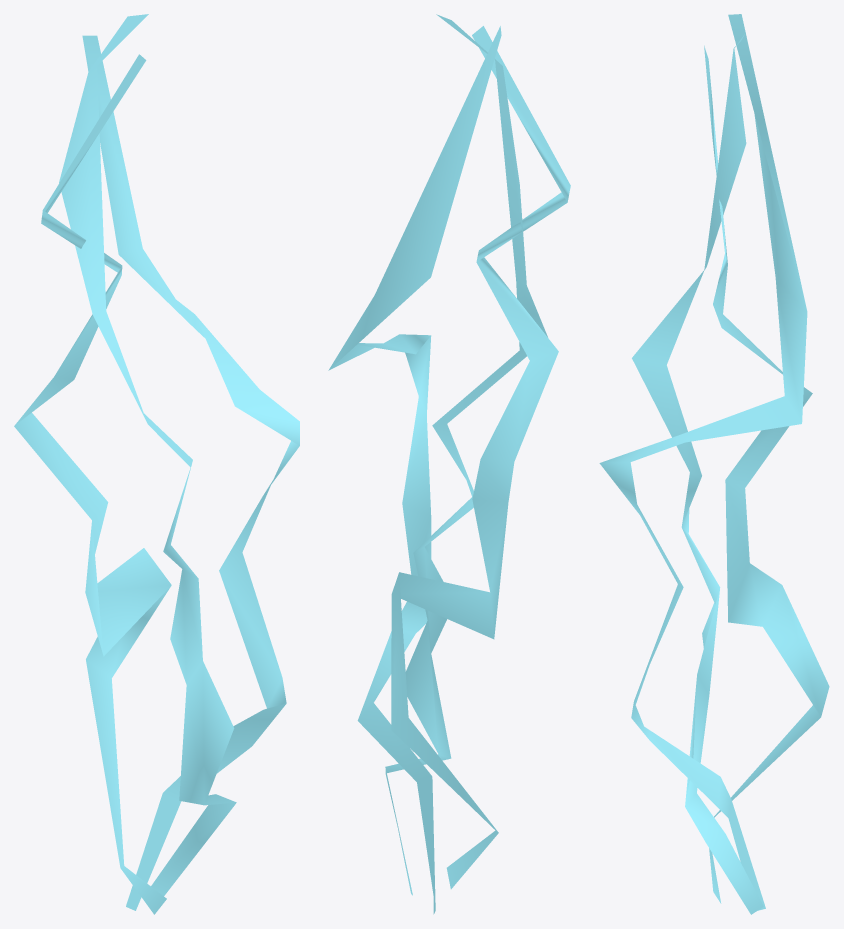
The model's file is electricidad_pasillo-006.gltf.
3 views of the same model, side by side, from view 1: azimuth 30°, elevation 25°; view 2: azimuth 150°, elevation 25°; view 3: azimuth 270°, elevation 25° (orthographic). The views are drawn at different scales.
Visible parts, largest first — view 1: Electr-Pasillo-f.006; view 2: Electr-Pasillo-f.006; view 3: Electr-Pasillo-f.006.
Boxes of the visible parts, bbox=[...] form: Electr-Pasillo-f.006: bbox=[14, 14, 299, 914]; Electr-Pasillo-f.006: bbox=[328, 14, 570, 914]; Electr-Pasillo-f.006: bbox=[599, 14, 829, 914].
Size of the model in its own units: 1.23 by 4.93 by 1.18.
1 material, 1 textured.
